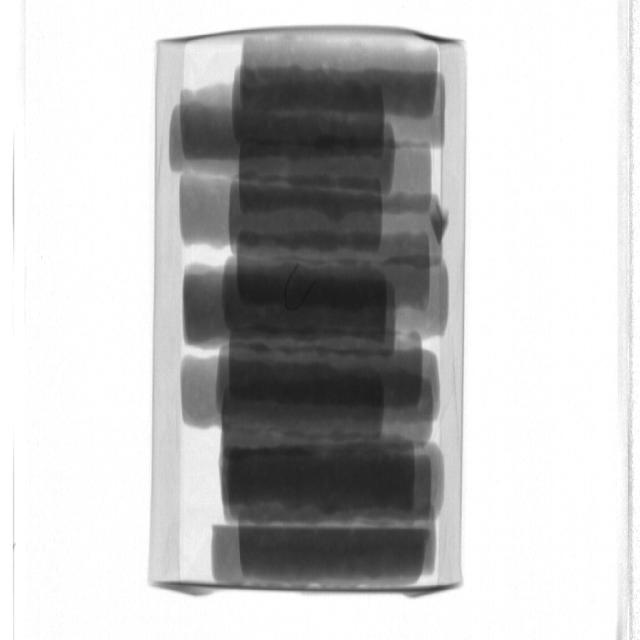ym: (284, 265, 316, 311), (433, 206, 450, 245)
